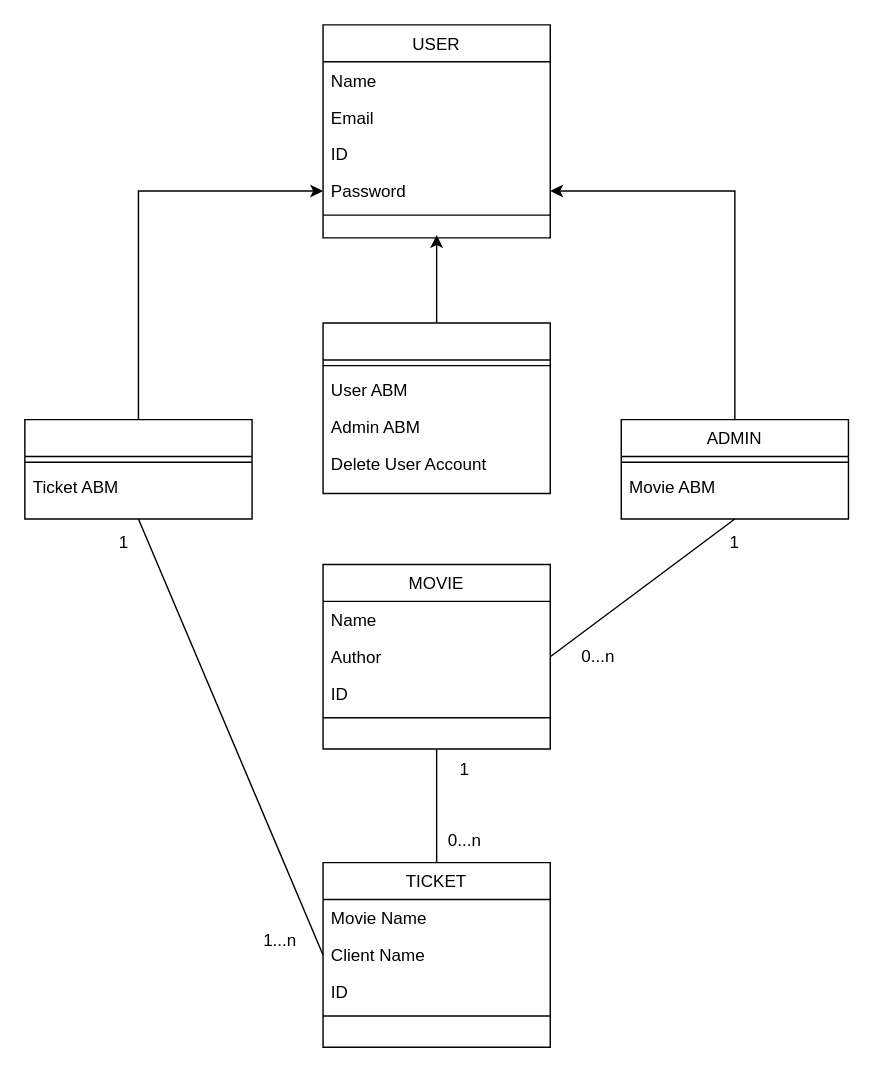
The diagram is 873 pixels wide and 1072 high, and some of its shapes have lost their labels. Here are the shapes that lost their labels. From the top down, the box of each, then its label:
(322, 322, 550, 493): SUPERADMIN
(23, 418, 252, 519): CLIENT
